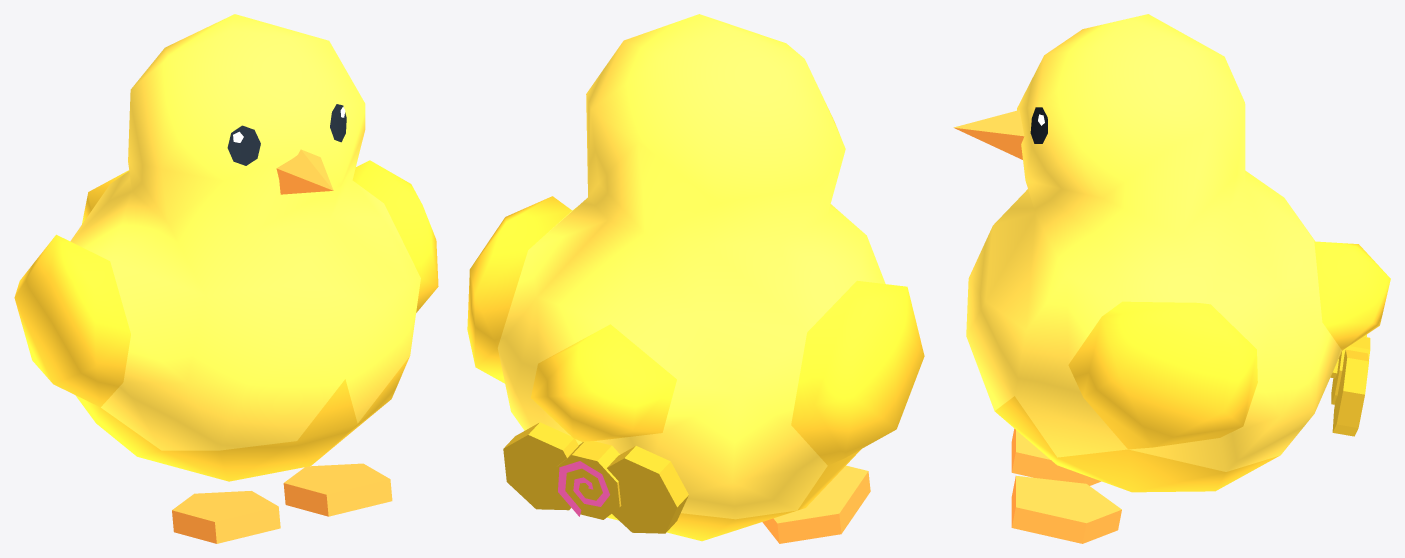
File: windup-chick-back.glb
3 renders of one model, left to right at view 1: azimuth 30°, elevation 25°; view 2: azimuth 150°, elevation 25°; view 3: azimuth 270°, elevation 25°, orthographic. The views are drawn at different scales.
Parts seen in each view (by area): view 1: windup-chick-back; view 2: windup-chick-back; view 3: windup-chick-back.
Part boxes in pixels (left/top/right/bottom): windup-chick-back: left=14, top=14, right=438, bottom=543; windup-chick-back: left=467, top=14, right=924, bottom=543; windup-chick-back: left=953, top=14, right=1390, bottom=543.
Size of the model in its own units: 0.93 by 1.14 by 0.95.
